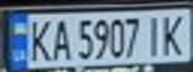0: (109, 16, 127, 60)
5: (72, 16, 93, 61)
7: (124, 14, 145, 57)
9: (90, 16, 112, 60)
A: (48, 16, 72, 62)
I: (142, 12, 166, 57)
K: (157, 11, 190, 56), (24, 16, 54, 63)
